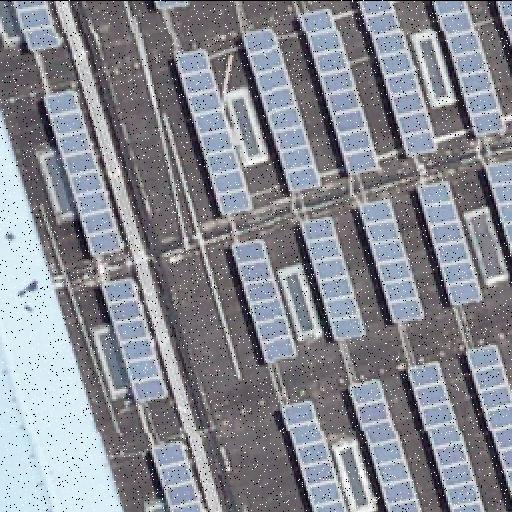solar-panel: (42, 84, 126, 256), (175, 45, 257, 219), (300, 5, 380, 179), (241, 25, 319, 191), (406, 356, 486, 512), (357, 0, 435, 156), (347, 372, 421, 512), (431, 0, 505, 136), (414, 175, 486, 305), (102, 271, 170, 401), (230, 234, 298, 362), (359, 191, 425, 321), (277, 396, 347, 512), (298, 213, 362, 339), (465, 337, 511, 495), (151, 433, 209, 511), (484, 156, 512, 256), (14, 0, 62, 48), (496, 0, 512, 48), (153, 1, 191, 15)
